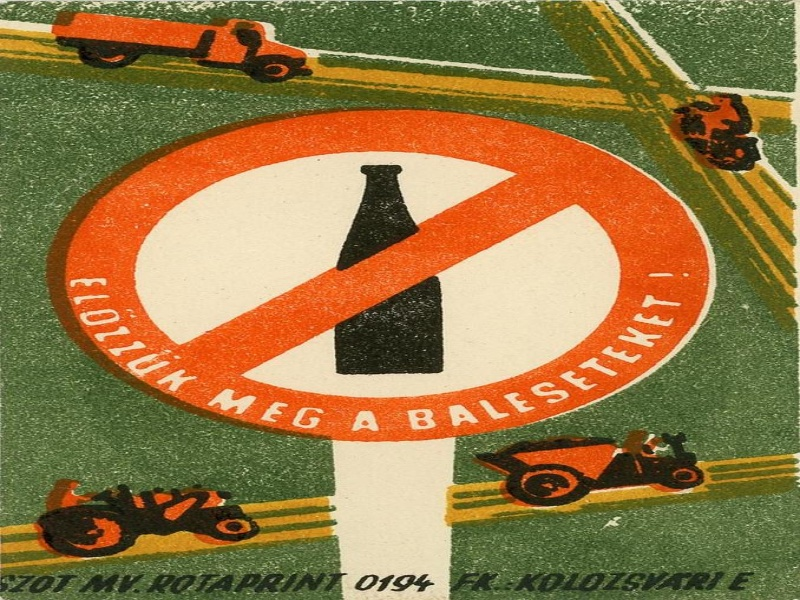alcohol_free_zone: (39, 126, 709, 439)
